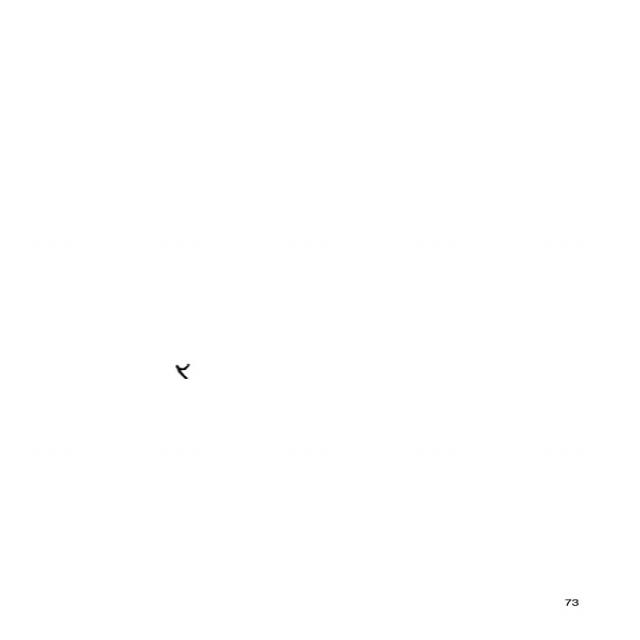3 -three-: (172, 360, 196, 384)
